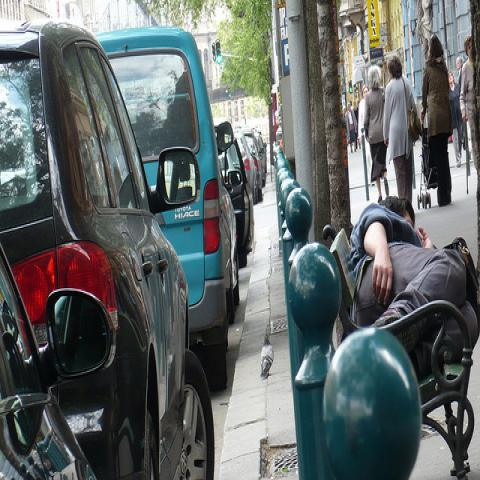car: (0, 18, 215, 475), (92, 24, 236, 395), (0, 238, 119, 479), (221, 148, 254, 263), (235, 132, 258, 205), (232, 197, 244, 324), (245, 136, 264, 202), (254, 133, 267, 186)
